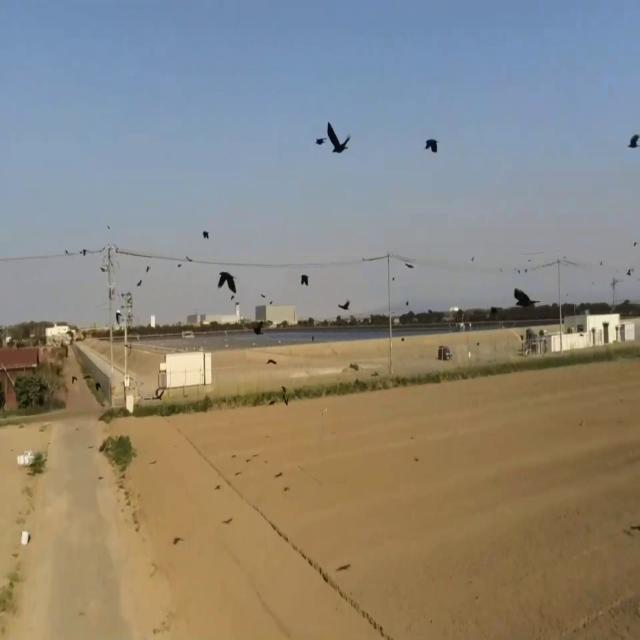bird: (326, 118, 352, 164), (217, 262, 237, 304), (424, 130, 438, 159), (628, 125, 640, 155), (339, 294, 351, 318), (281, 380, 289, 409), (316, 129, 325, 153), (266, 352, 276, 372), (404, 255, 414, 274), (300, 270, 308, 290), (203, 225, 209, 243), (136, 274, 142, 291), (81, 244, 87, 258)
